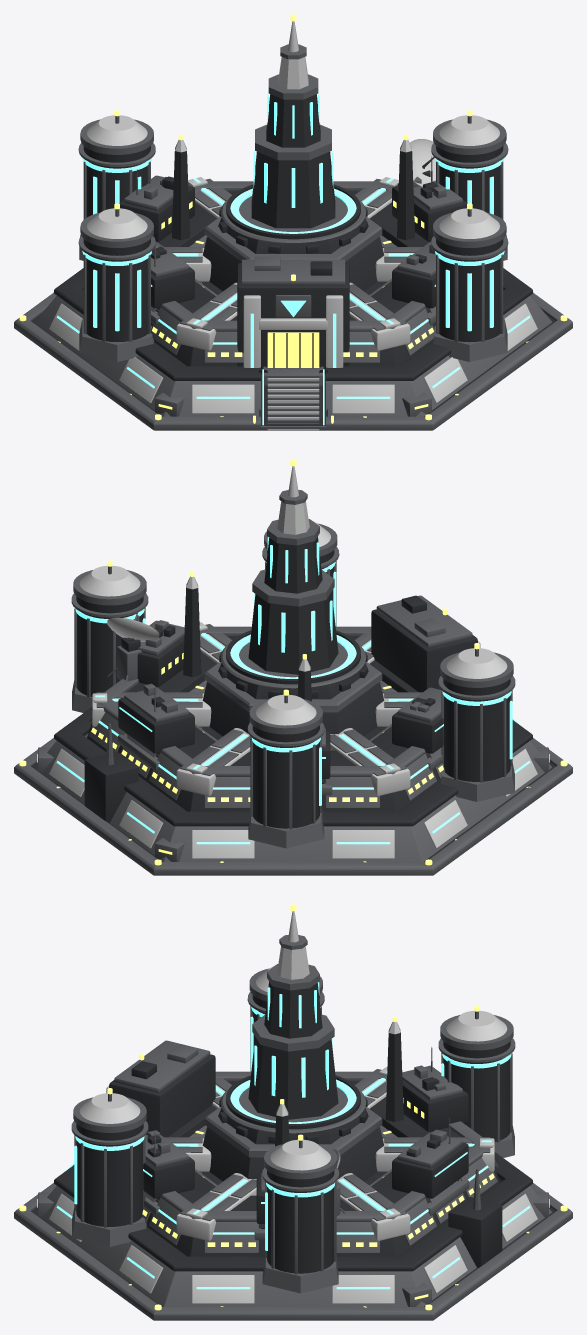
The model's file is sb_command_t1.glb.
The picture shows the model from 3 angles, top to bottom: view 1: azimuth 30°, elevation 25°; view 2: azimuth 150°, elevation 25°; view 3: azimuth 270°, elevation 25°; orthographic projection.
Parts seen in each view (by area): view 1: SM_CC_BODY, SM_CC_LIGHTS; view 2: SM_CC_BODY, SM_CC_LIGHTS; view 3: SM_CC_BODY, SM_CC_LIGHTS.
Boxes of the visible parts, <box> form: SM_CC_BODY: <box>14,21,572,430</box>; SM_CC_LIGHTS: <box>19,14,567,425</box>; SM_CC_BODY: <box>14,466,572,875</box>; SM_CC_LIGHTS: <box>19,459,567,865</box>; SM_CC_BODY: <box>14,911,572,1320</box>; SM_CC_LIGHTS: <box>19,904,567,1310</box>.
Bounding box in the file's own units: 49.05 × 33.86 × 54.49.
